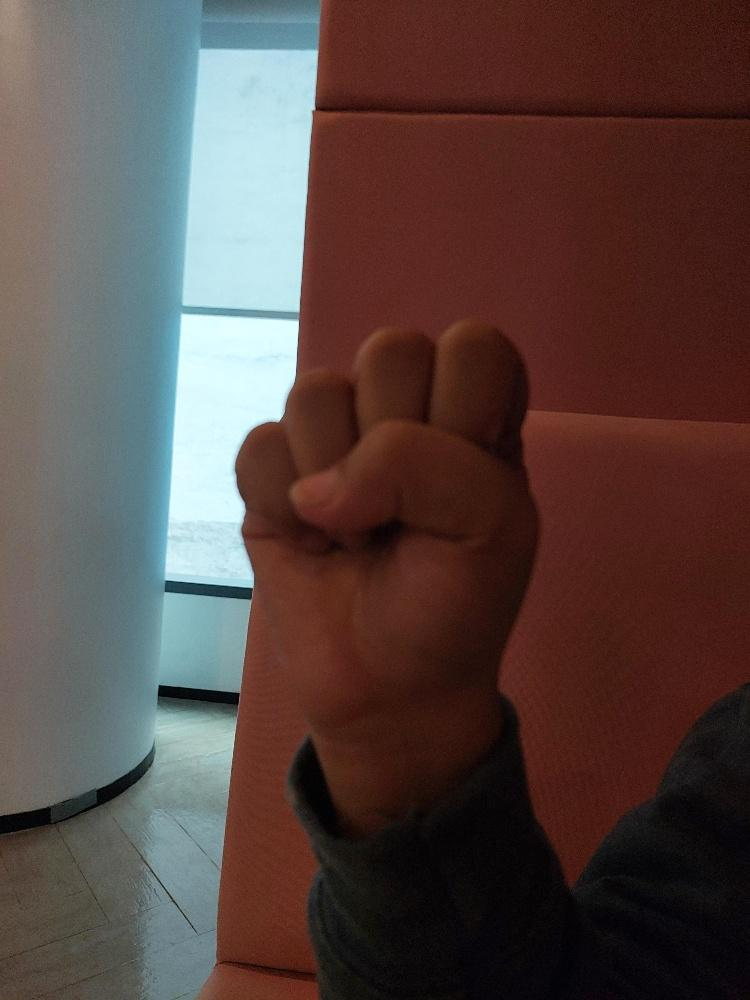s: (222, 305, 553, 735)
